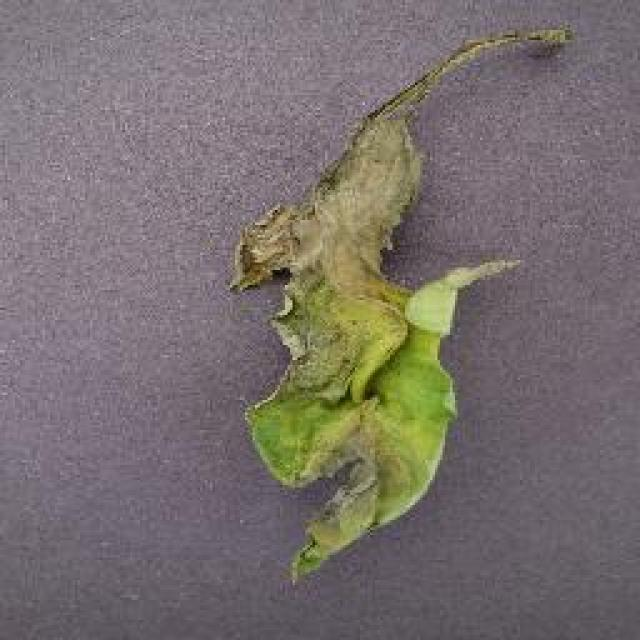Tomato___Late_blight: (228, 30, 570, 585)
